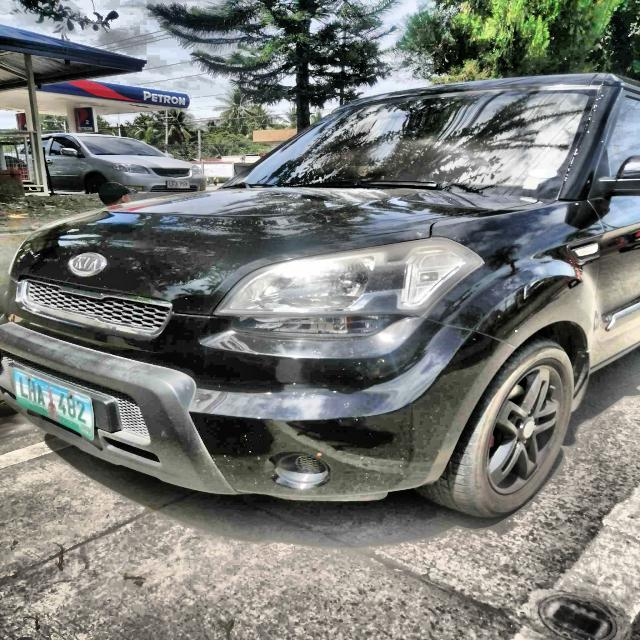license-plate: (0, 369, 107, 441)
